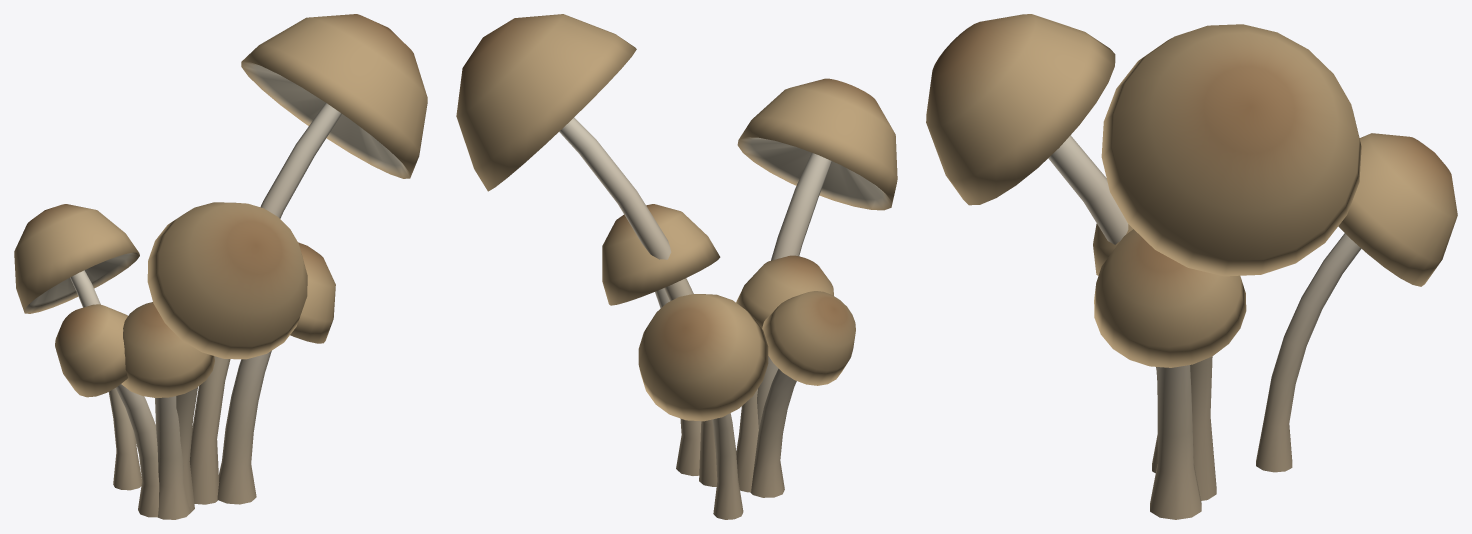
Rendered from Mushroom_Cluster.fbx.
3 renders of one model, left to right at view 1: azimuth 30°, elevation 25°; view 2: azimuth 150°, elevation 25°; view 3: azimuth 270°, elevation 25°, orthographic. The views are drawn at different scales.
Visible parts, largest first — view 1: Mushroom_Cluster; view 2: Mushroom_Cluster; view 3: Mushroom_Cluster.
Part boxes in pixels (<box>): Mushroom_Cluster: <box>14,14,427,519</box>; Mushroom_Cluster: <box>456,14,897,519</box>; Mushroom_Cluster: <box>926,14,1457,519</box>.
Bounding box in the file's own units: 3.02 × 3.37 × 2.96.
